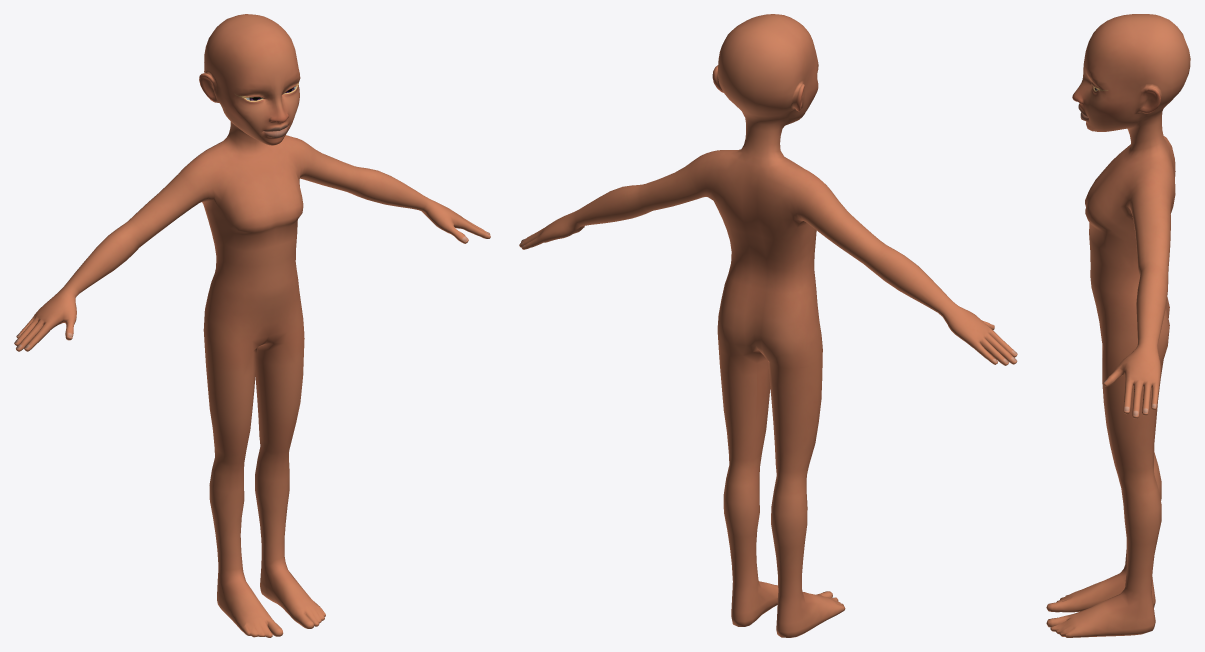
The model's file is frame_0081.glb.
3 views of the same model, side by side, from view 1: azimuth 30°, elevation 25°; view 2: azimuth 150°, elevation 25°; view 3: azimuth 270°, elevation 25° (orthographic). The views are drawn at different scales.
Parts seen in each view (by area): view 1: frame_0081_head_geo; view 2: frame_0081_head_geo; view 3: frame_0081_head_geo.
Part boxes in pixels (bbox=[...]): frame_0081_head_geo: bbox=[14, 14, 490, 637]; frame_0081_head_geo: bbox=[519, 14, 1017, 637]; frame_0081_head_geo: bbox=[1046, 14, 1190, 637].
Size of the model in its own units: 1.28 by 1.5 by 0.3253.
Materials: 3 (3 with a texture image).
